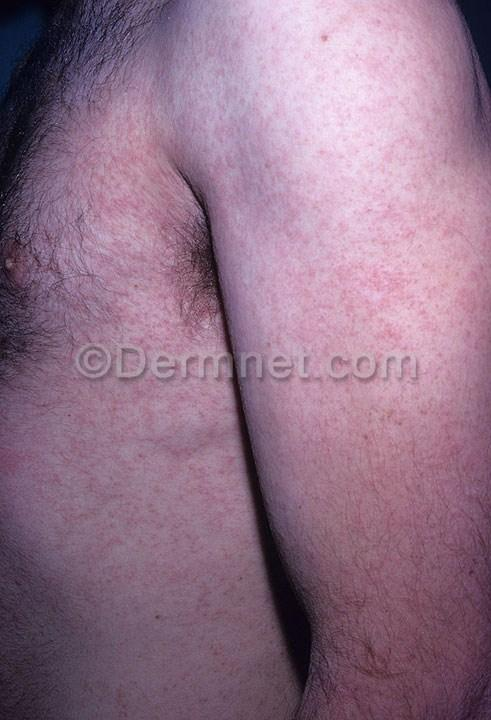Eczema: (282, 447, 414, 598), (87, 576, 211, 720), (250, 342, 380, 479), (310, 100, 438, 227), (309, 224, 432, 337), (154, 13, 249, 159), (214, 141, 337, 253), (85, 463, 198, 581), (376, 298, 467, 437), (209, 541, 290, 667), (230, 251, 314, 372), (62, 109, 165, 207), (413, 517, 491, 646), (409, 0, 480, 139), (28, 174, 117, 284), (386, 207, 491, 300), (72, 370, 172, 467), (244, 29, 335, 134), (336, 0, 428, 102), (144, 293, 223, 406), (407, 419, 488, 526), (323, 606, 399, 719), (3, 569, 64, 709), (115, 202, 195, 300), (12, 489, 106, 571), (163, 461, 257, 543), (405, 123, 491, 210), (63, 293, 144, 382), (7, 380, 75, 484), (159, 394, 248, 463), (413, 641, 480, 718), (211, 658, 283, 706)
